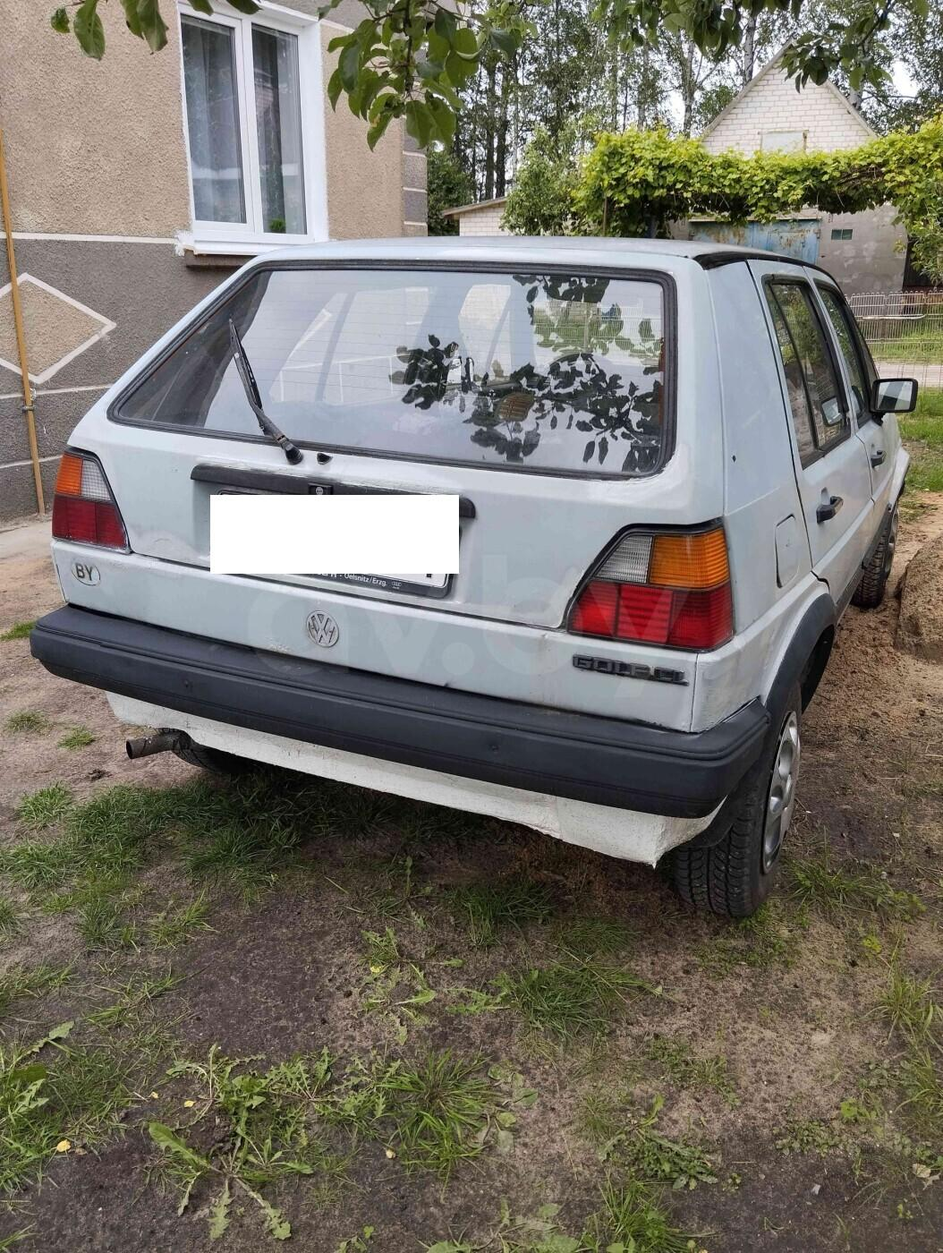Golf_1983-1992: (21, 234, 911, 918)
